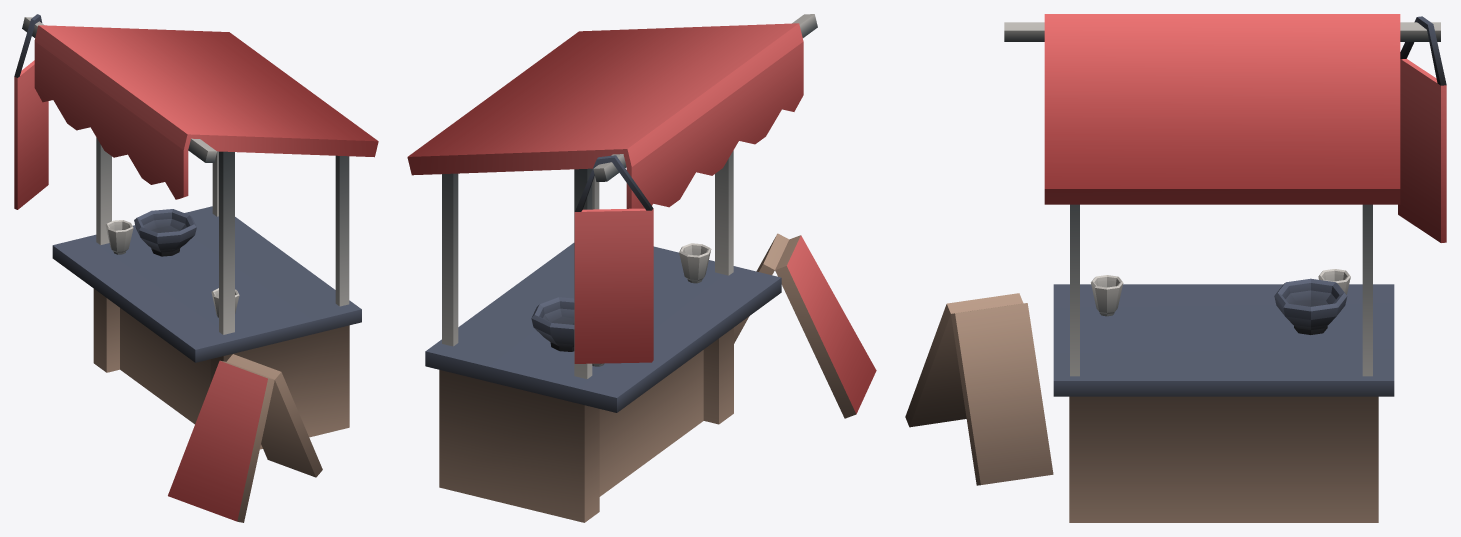
The model's file is m_MarketStall2.fbx.
The picture shows the model from 3 angles, left to right: view 1: azimuth 30°, elevation 25°; view 2: azimuth 150°, elevation 25°; view 3: azimuth 270°, elevation 25°; orthographic projection. The views are drawn at different scales.
Parts seen in each view (by area): view 1: MarketStall2; view 2: MarketStall2; view 3: MarketStall2.
Part boxes in pixels (x1=…): MarketStall2: x1=14, y1=14, x2=378, y2=522; MarketStall2: x1=407, y1=14, x2=876, y2=522; MarketStall2: x1=905, y1=14, x2=1446, y2=522.
Size of the model in its own units: 179 by 263 by 312.
